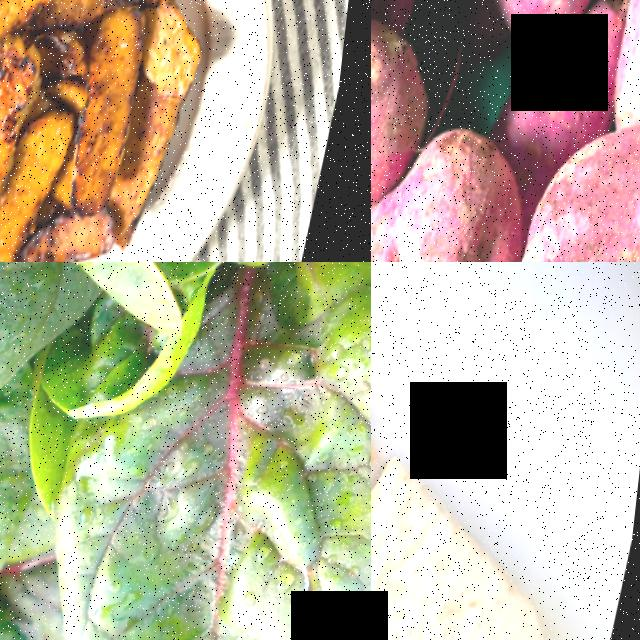spinach: (33, 337, 371, 640), (0, 262, 128, 426), (0, 402, 48, 640)
sweet potato: (371, 125, 553, 262), (500, 96, 640, 262), (371, 14, 444, 248), (480, 0, 616, 68)
tempeh: (371, 433, 605, 640)
